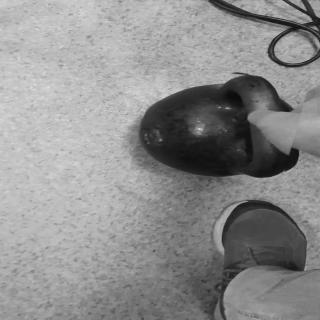kettlebell: (137, 71, 305, 181)
